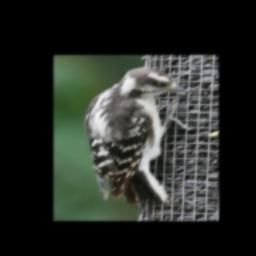Woodpecker: (84, 66, 193, 209)
